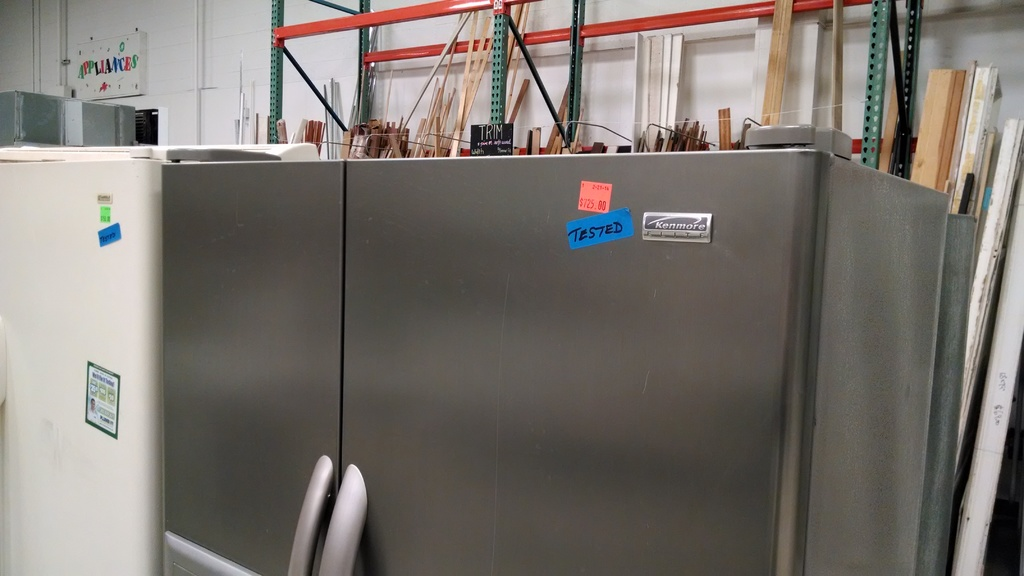handle: (274, 450, 334, 576), (326, 470, 377, 576)
refrigerator door: (349, 162, 785, 576), (3, 167, 338, 576)
